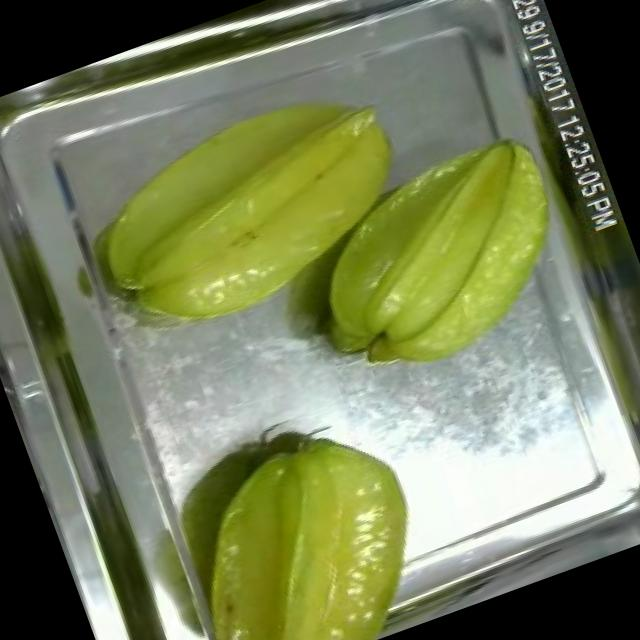fruit: (58, 51, 446, 368), (276, 111, 604, 402), (145, 401, 453, 640)
